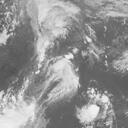cyclone: (43, 56, 79, 98)
